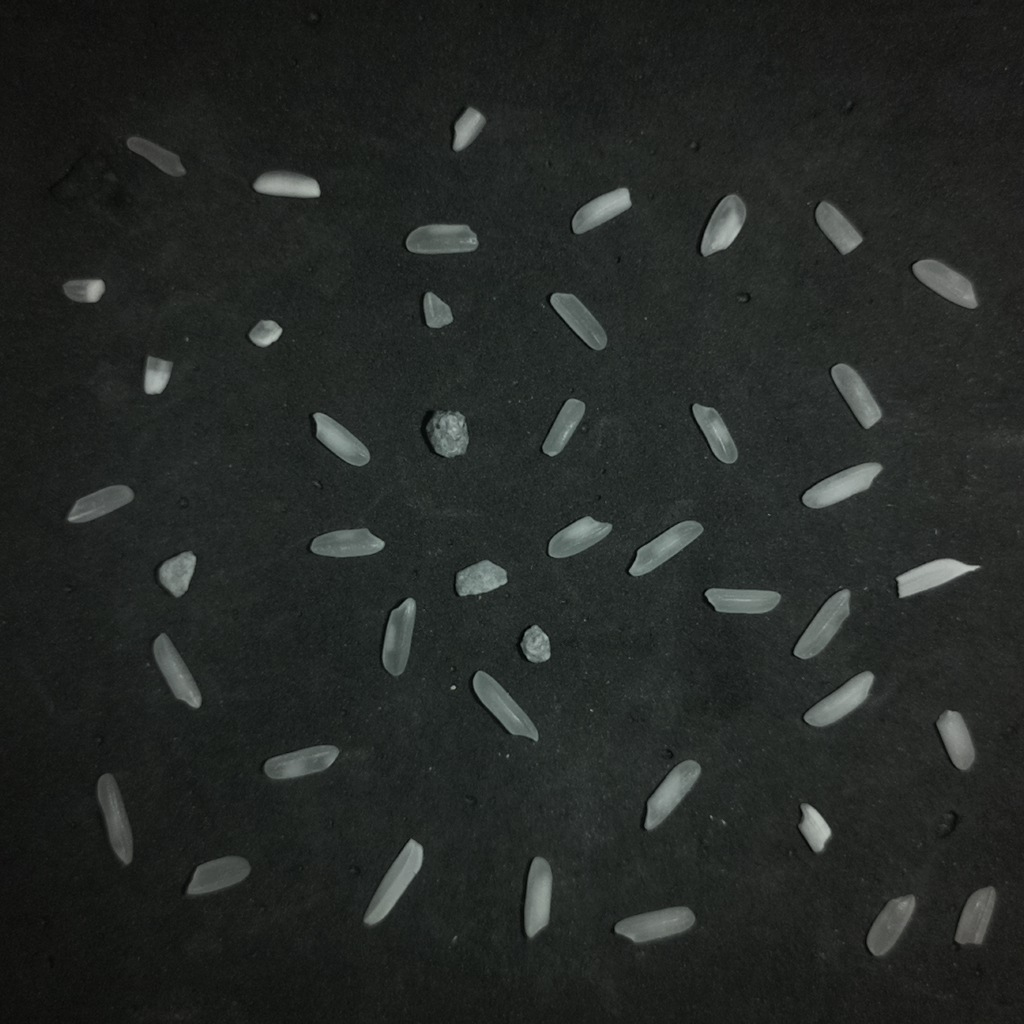broken: (912, 259, 977, 308), (866, 895, 915, 956), (186, 855, 250, 895), (814, 201, 862, 254), (542, 398, 585, 456), (127, 136, 185, 176), (955, 887, 995, 944), (405, 224, 478, 254), (157, 551, 196, 597), (423, 291, 453, 328), (62, 279, 105, 303), (248, 320, 282, 347)
chalky: (472, 671, 538, 741), (793, 589, 851, 660), (644, 760, 700, 830), (803, 672, 874, 727), (802, 463, 882, 508), (153, 634, 201, 708), (313, 413, 369, 466), (571, 187, 631, 234), (700, 194, 746, 255), (547, 515, 611, 558), (692, 403, 737, 463), (936, 711, 975, 770), (524, 857, 552, 938), (253, 171, 320, 198), (798, 803, 831, 853), (452, 107, 485, 151), (143, 356, 172, 395)
foreign: (363, 839, 422, 925), (896, 558, 979, 597), (425, 410, 468, 457), (455, 559, 507, 595), (520, 624, 549, 663)
whole: (629, 521, 703, 576), (831, 363, 881, 428), (549, 293, 606, 350), (97, 774, 132, 865), (614, 907, 694, 942), (382, 597, 416, 676), (263, 744, 338, 779), (66, 485, 133, 523), (310, 528, 384, 557), (705, 588, 780, 613)
